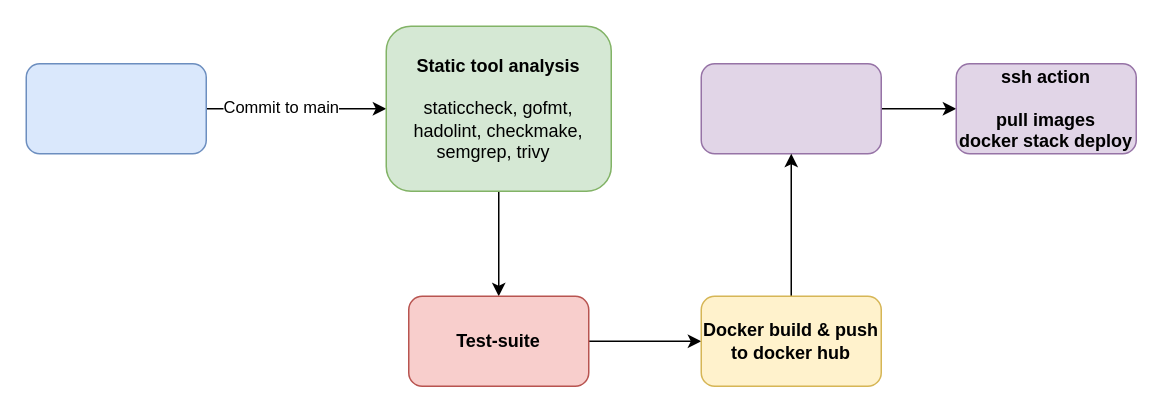
Image size: 1163x413. Some labels were removed from this diagram. Each missing label, with the centre of its shape:
"SCP action Compose files, config files" belongs at (x=790, y=108).
"Source Control (Git/GitHub)" belongs at (x=115, y=108).
